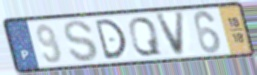6: (191, 9, 225, 55)
9: (35, 22, 63, 65)
D: (93, 18, 129, 62)
Q: (127, 15, 163, 58)
S: (62, 19, 100, 64)
V: (154, 10, 187, 58)
